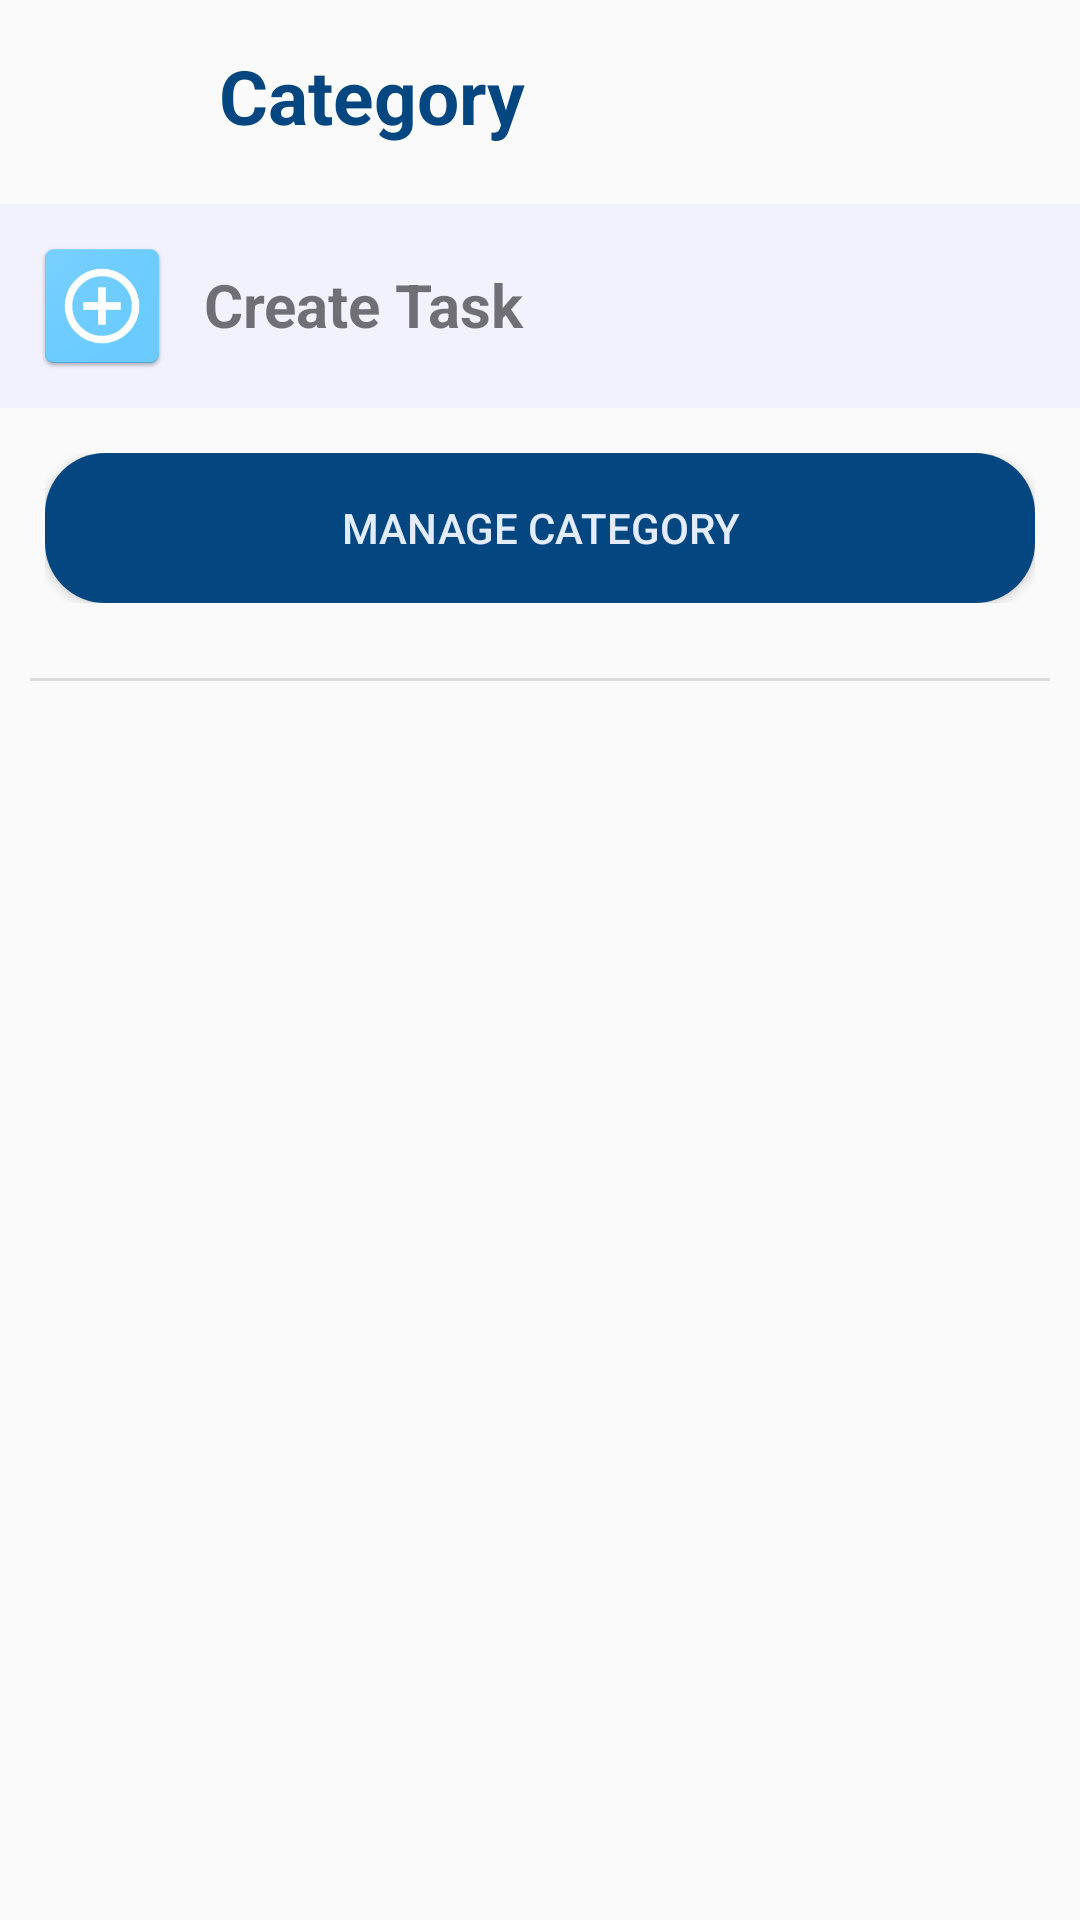

Icon click points for this 1080px×1920px phone screenshot, format (x,y):
add: (102,307)
